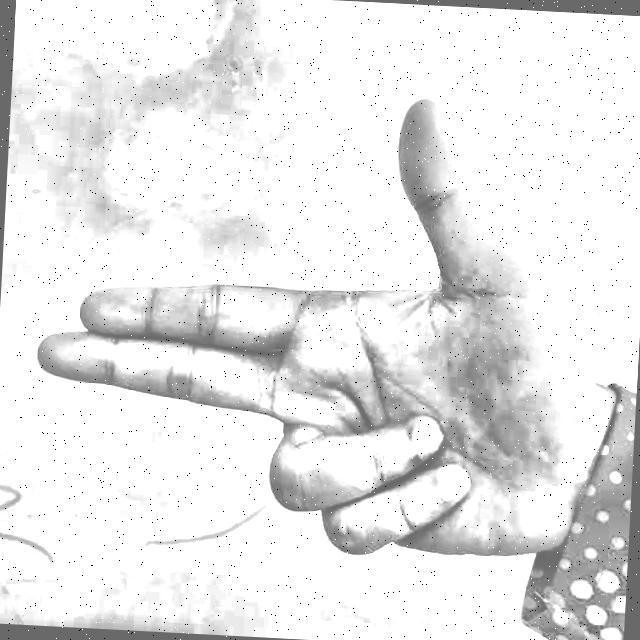Jha: (14, 31, 621, 632)
